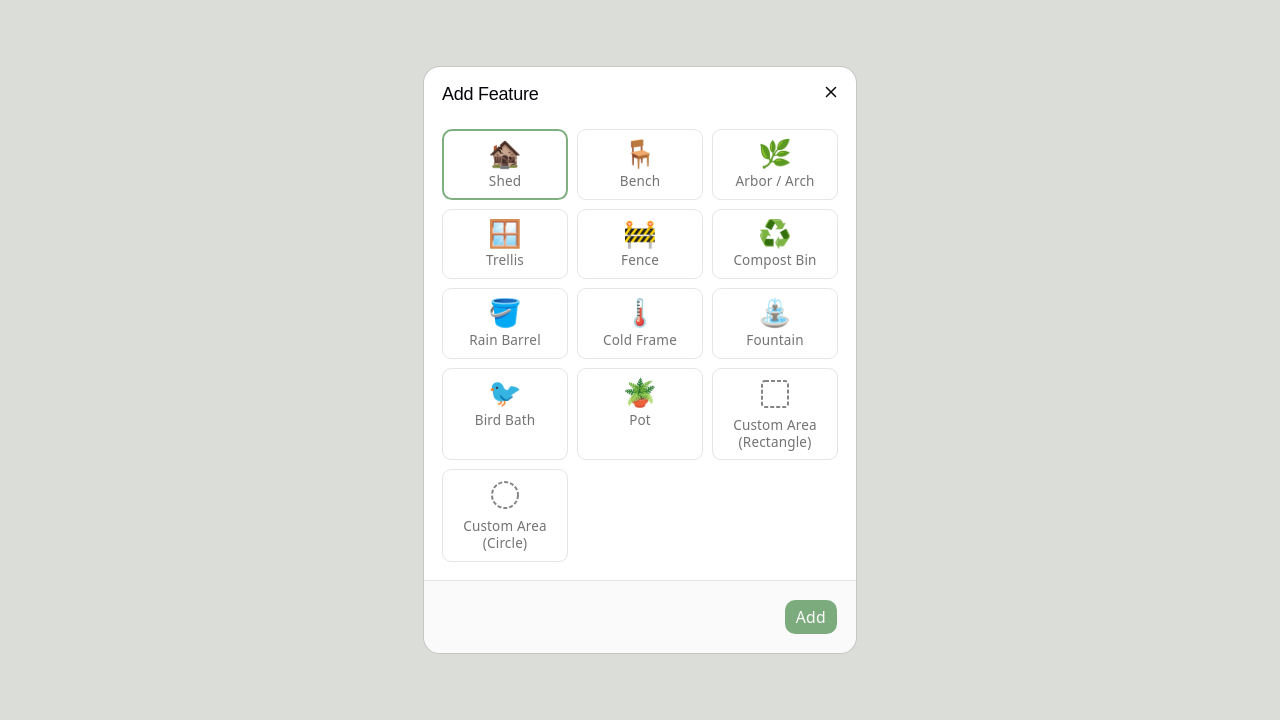
Scenario: PlaceFeatureDialog › custom types › clears label input when switching from custom to non-custom type
Click the button "Custom Area (Rectangle)" at (775, 414), box [712,368,838,460]
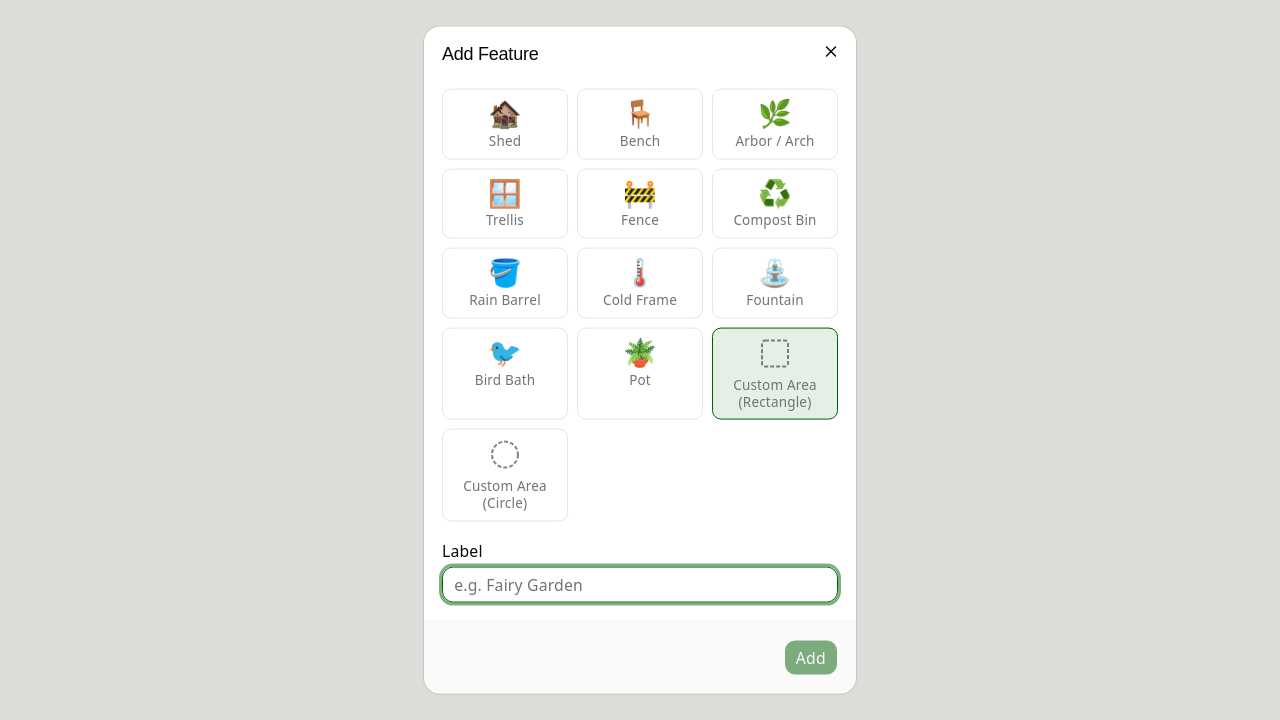
Type "Fairy Garden" into the field labelled "Label" at (640, 584), box [442,566,838,602]
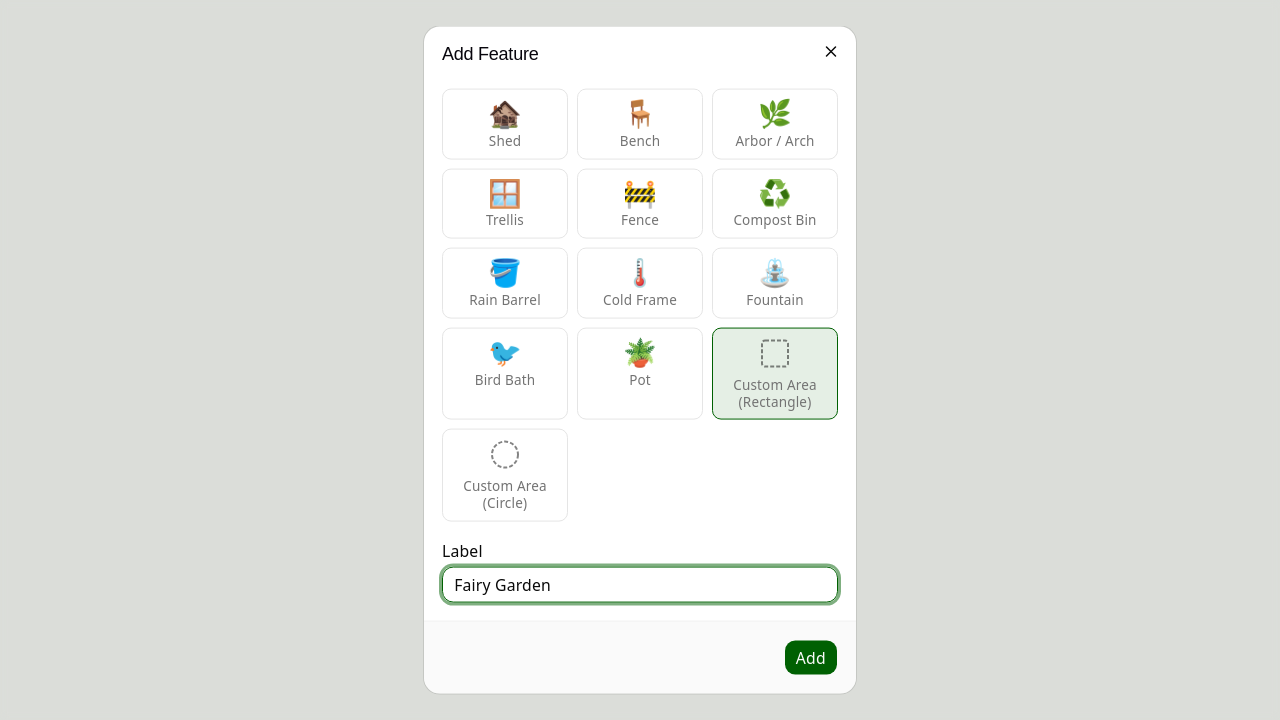
Click the button "🏚️ Shed" at (505, 124), box [442,89,568,159]
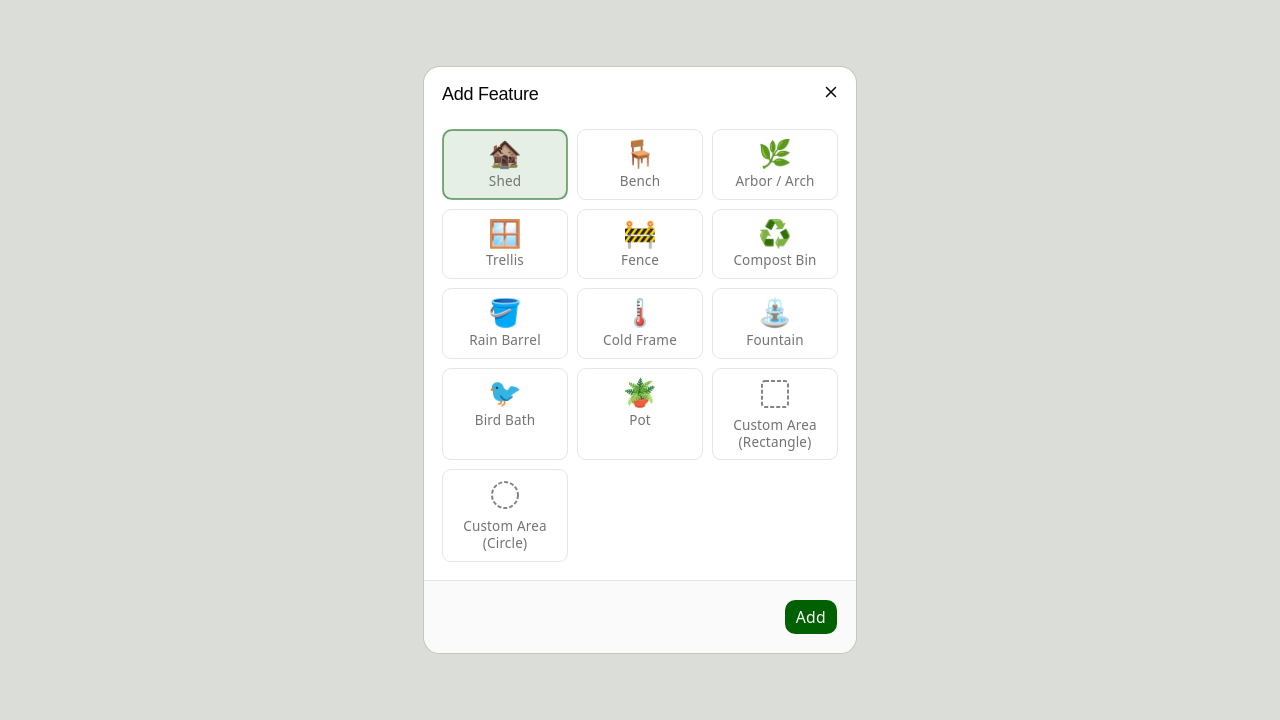
Expected: the label labelled "Label" is gone
